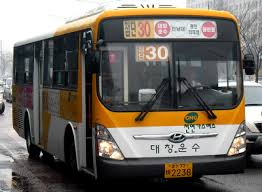bnum: (144, 44, 169, 60)
